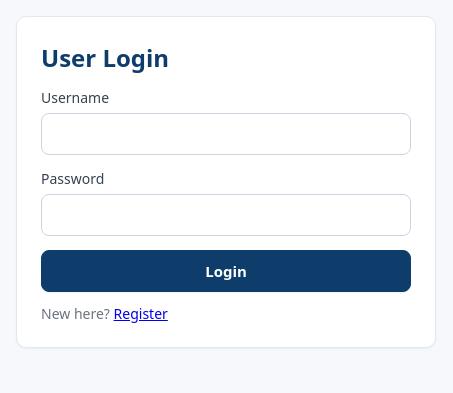
it: LoginForm › shows a friendly error when login fails
In the field labelled "Username": (226, 134) [41,113,411,155], type "rider1"
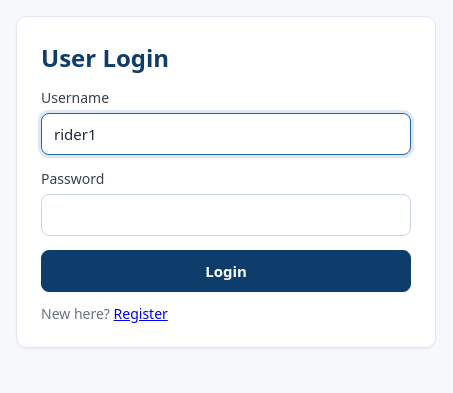
In the password field labelled "Password": (226, 215) [41,194,411,236], type "wrong"
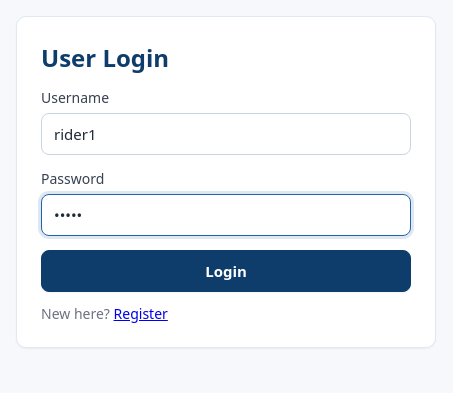
Click the button "Login": (226, 271) [41,250,411,292]
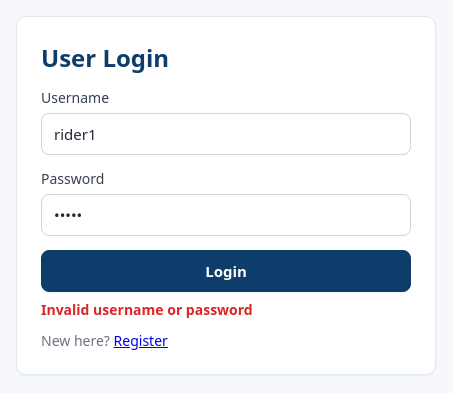
Now the message reads "Invalid username or password", box [41,300,253,319]
